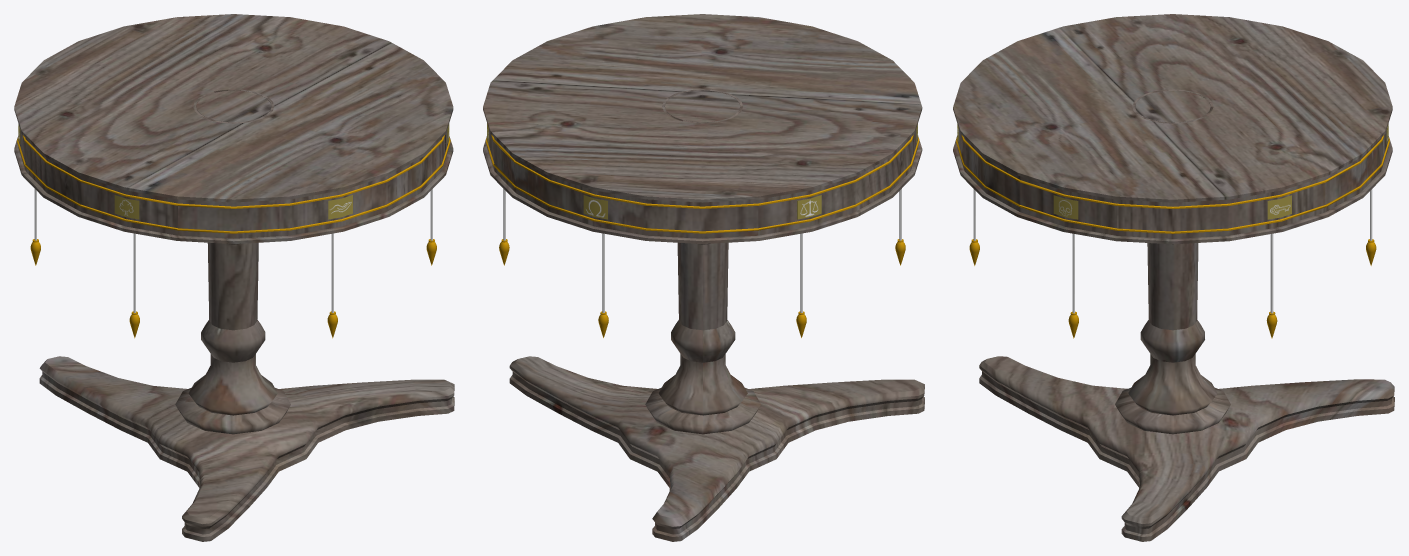
The model's file is CoffeeTable_fin.fbx.
3 views of the same model, side by side, from view 1: azimuth 30°, elevation 25°; view 2: azimuth 150°, elevation 25°; view 3: azimuth 270°, elevation 25° (orthographic).
Visible parts, largest first — view 1: mesh_Lounge_Table_Main, mesh_Table_Top_Segment_2, mesh_Table_Top_Segment_1, mesh_Table_Top_Segment_3, mesh_Table_Top_Segment_4, mesh_Lounge_Table_Pedestal; view 2: mesh_Lounge_Table_Main, mesh_Table_Top_Segment_4, mesh_Table_Top_Segment_1, mesh_Table_Top_Segment_3, mesh_Table_Top_Segment_2, mesh_Lounge_Table_Pedestal; view 3: mesh_Lounge_Table_Main, mesh_Table_Top_Segment_3, mesh_Table_Top_Segment_4, mesh_Table_Top_Segment_2, mesh_Table_Top_Segment_1, mesh_Lounge_Table_Pedestal.
Part boxes in pixels (x1,y1,x2,y2): mesh_Lounge_Table_Main: [14, 89, 454, 541]; mesh_Table_Top_Segment_2: [177, 111, 445, 238]; mesh_Table_Top_Segment_1: [14, 82, 222, 235]; mesh_Table_Top_Segment_3: [244, 17, 453, 170]; mesh_Table_Top_Segment_4: [22, 14, 290, 101]; mesh_Lounge_Table_Pedestal: [196, 90, 271, 122]; mesh_Lounge_Table_Main: [483, 89, 924, 541]; mesh_Table_Top_Segment_4: [490, 111, 759, 238]; mesh_Table_Top_Segment_1: [713, 82, 922, 235]; mesh_Table_Top_Segment_3: [483, 17, 691, 169]; mesh_Table_Top_Segment_2: [646, 14, 913, 101]; mesh_Lounge_Table_Pedestal: [665, 90, 740, 122]; mesh_Lounge_Table_Main: [953, 89, 1394, 541]; mesh_Table_Top_Segment_3: [1017, 118, 1328, 238]; mesh_Table_Top_Segment_4: [1202, 41, 1392, 212]; mesh_Table_Top_Segment_2: [953, 41, 1143, 211]; mesh_Table_Top_Segment_1: [1018, 14, 1327, 94]; mesh_Lounge_Table_Pedestal: [1135, 90, 1210, 122].
Bounding box in the file's own units: 87.19 × 70.45 × 84.18.
